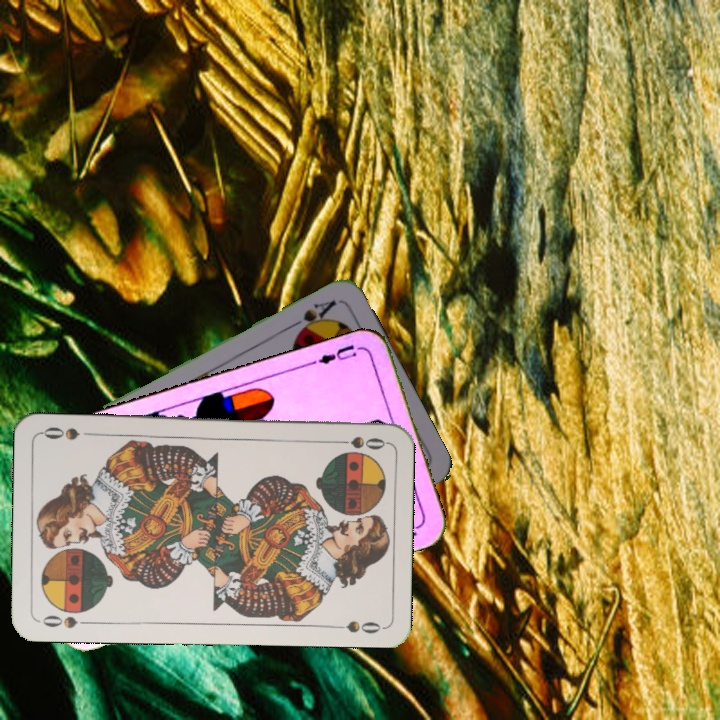EU: (308, 341, 366, 368)
SA: (286, 296, 340, 339)
SO: (36, 611, 95, 631), (329, 433, 388, 452)
